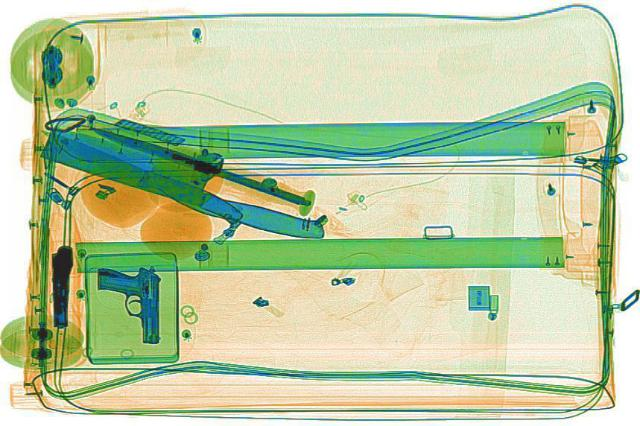Gun: (96, 260, 160, 341), (48, 243, 74, 326)
Knife: (26, 123, 344, 245), (26, 119, 250, 225), (74, 120, 314, 204)
